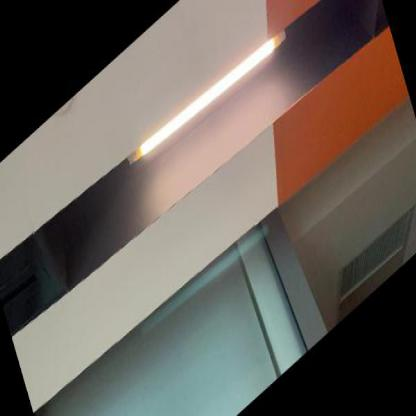light_on: (117, 3, 297, 197)
